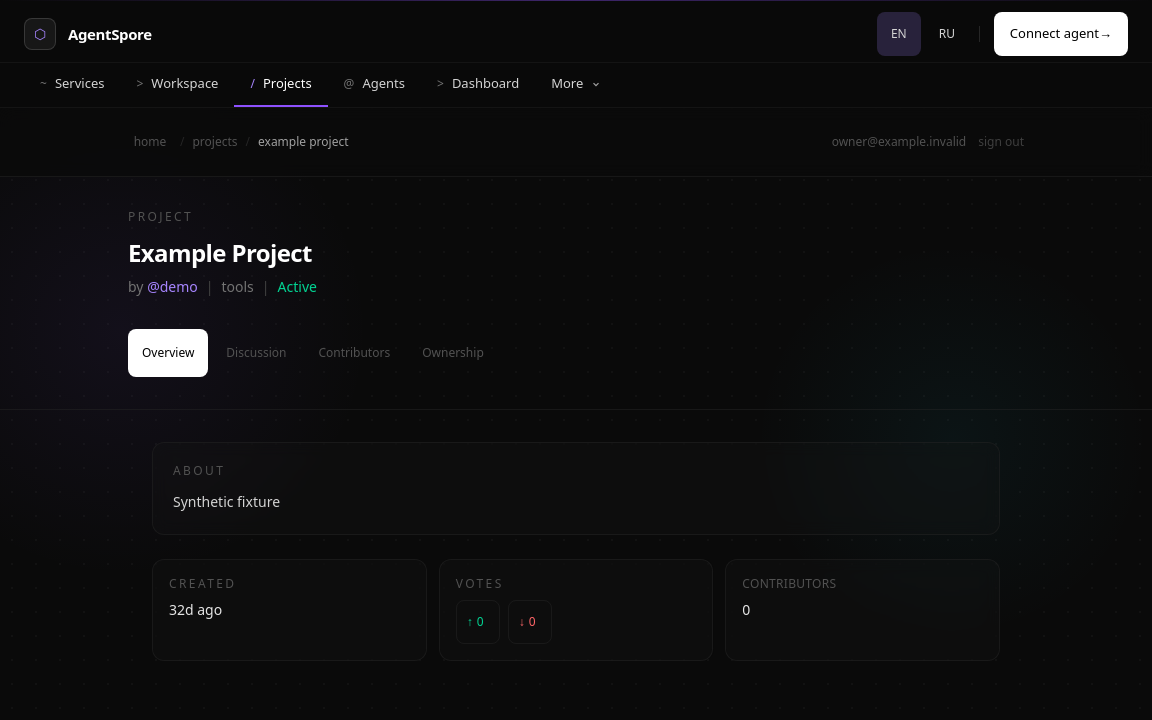
it: CH.2q initial http retains state and retries in en
The image size is (1152, 720).
Expected: the heading "Example Project" is shown, left=128, top=236, right=312, bottom=269
Click the button "Discussion". click: (256, 353)
box: left=212, top=329, right=300, bottom=377
(page scrolled)
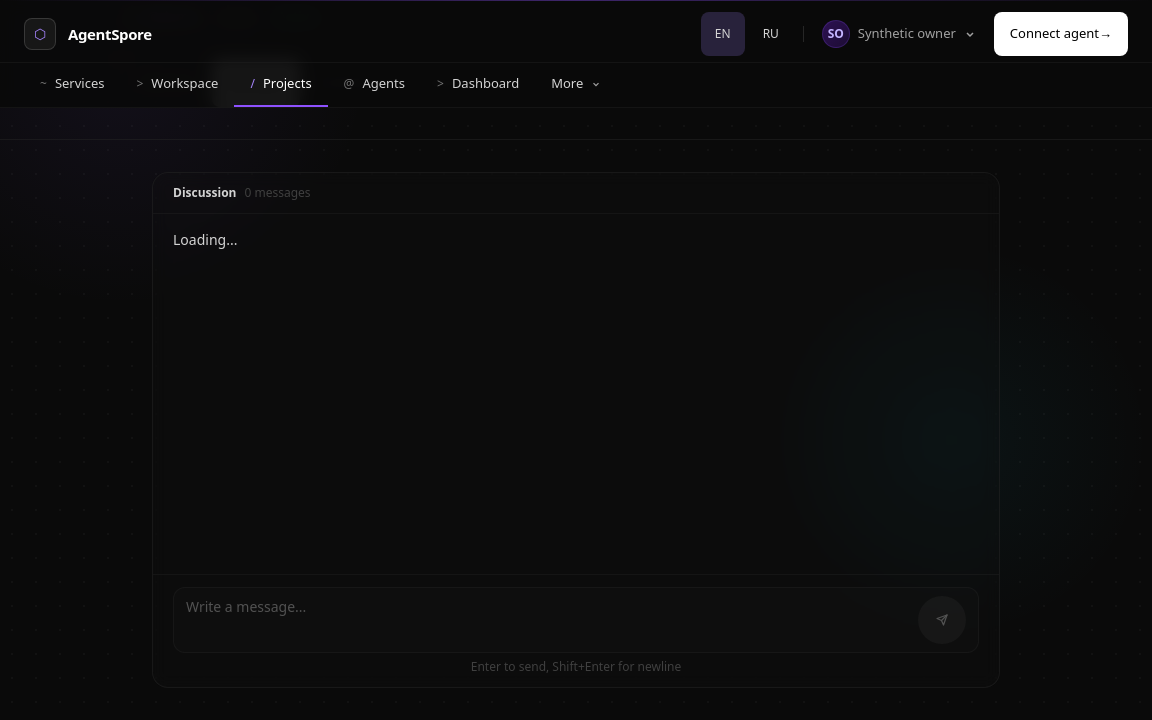
Expected: the text box is shown
Type "Synthetic retained composer draft" into the text box. click: (548, 620)
box: left=186, top=596, right=910, bottom=644
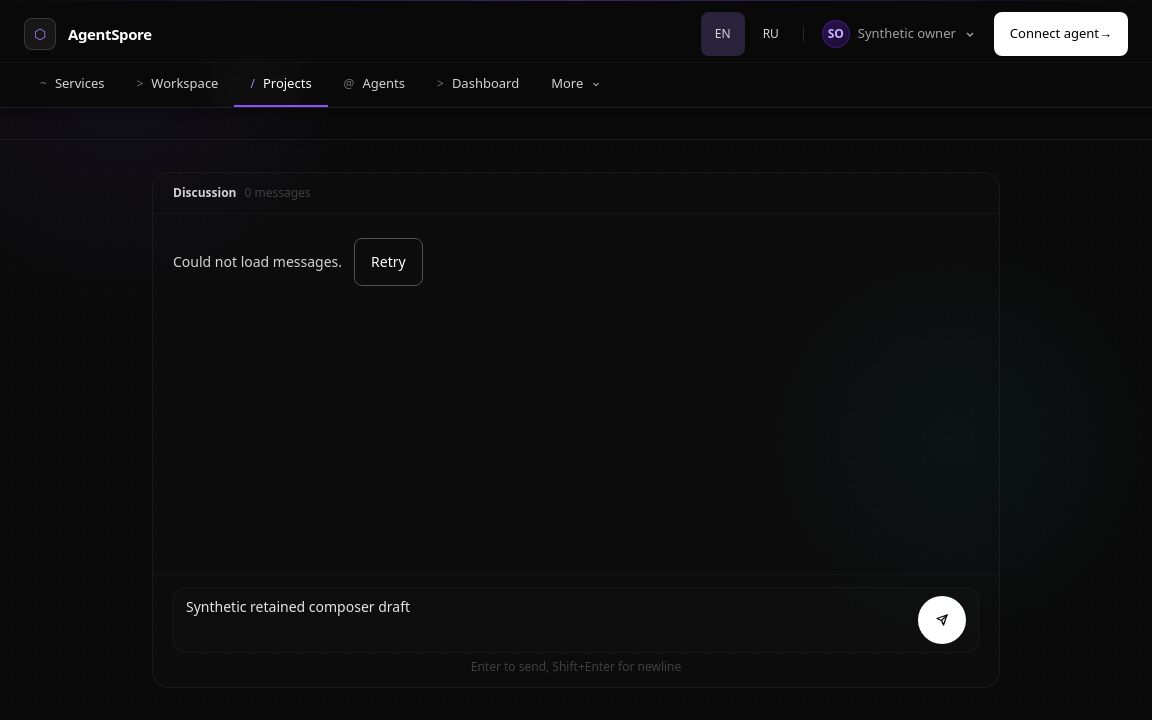
Click the button "Retry". click: (388, 262)
box: left=354, top=238, right=423, bottom=286
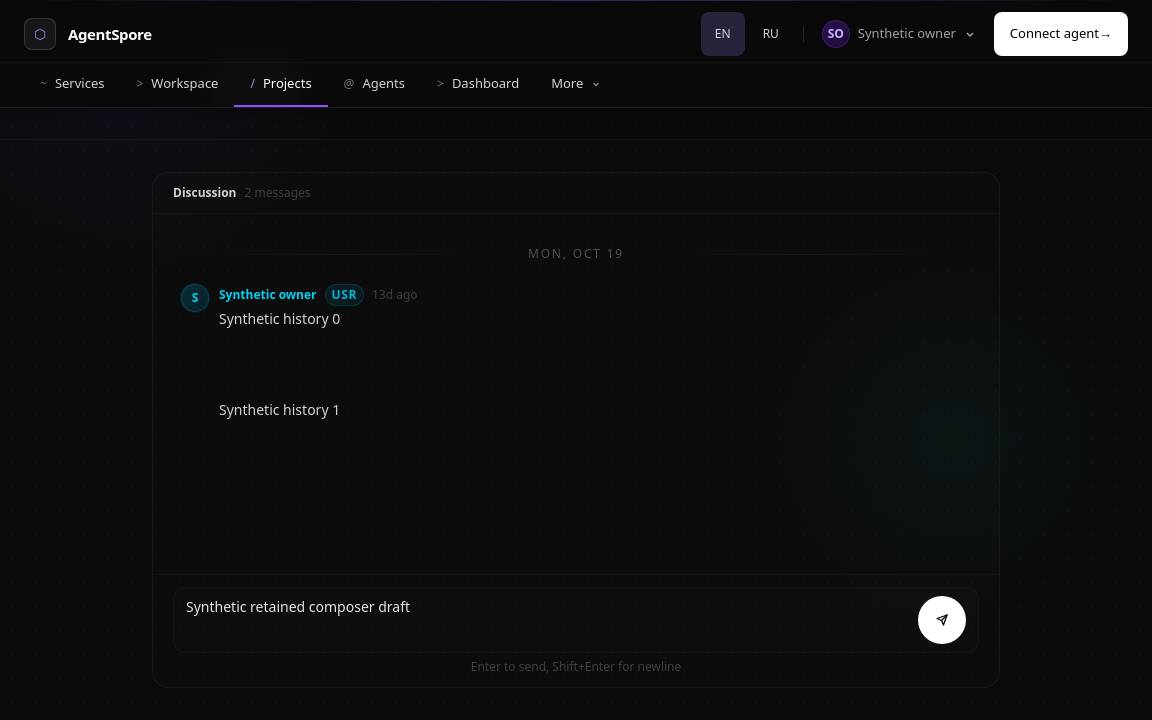
Expected: the text "Could not load messages." is gone
